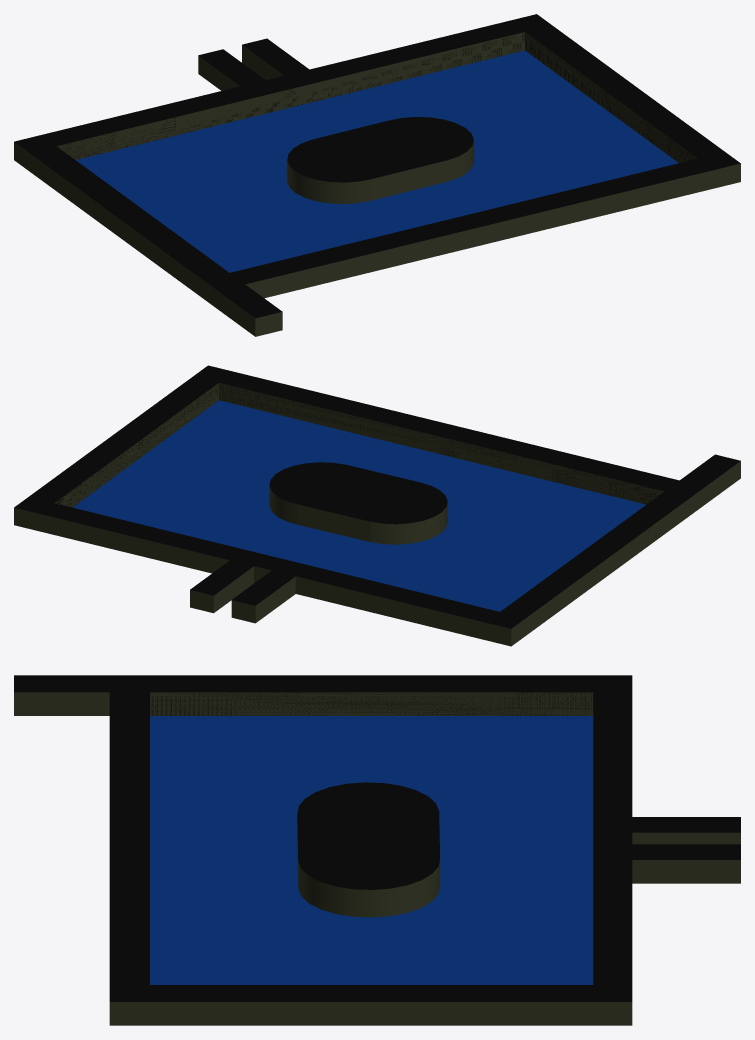
The model's file is ORBAT_ORBAT_II_REGT.dae.
3 views of the same model, one above another, from view 1: azimuth 30°, elevation 25°; view 2: azimuth 150°, elevation 25°; view 3: azimuth 270°, elevation 25° (orthographic). The views are drawn at different scales.
Parts seen in each view (by area): view 1: SketchUp (×6); view 2: SketchUp (×6); view 3: SketchUp (×6).
Part boxes in pixels (x1=…): SketchUp (×6): x1=14, y1=14, x2=740, y2=336; SketchUp (×6): x1=14, y1=365, x2=740, y2=646; SketchUp (×6): x1=14, y1=675, x2=740, y2=1025.
Bounding box in the file's own units: 44.14 × 41.51 × 1.73.
